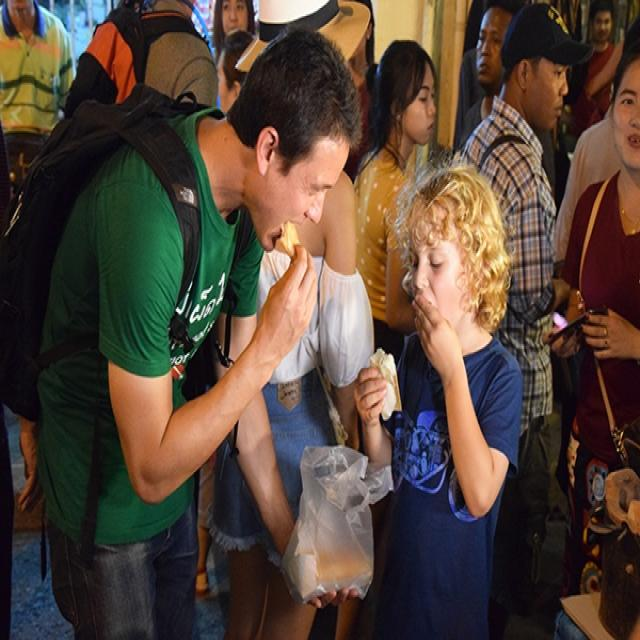body: (0, 16, 379, 638), (349, 152, 529, 638), (449, 0, 574, 635), (544, 34, 640, 602), (347, 37, 446, 373), (456, 0, 558, 192), (61, 0, 212, 115), (0, 0, 78, 200), (0, 376, 44, 640), (552, 102, 618, 272), (255, 0, 378, 82), (568, 0, 620, 141), (584, 0, 640, 99), (211, 26, 255, 115), (210, 0, 257, 66), (0, 115, 12, 240)
